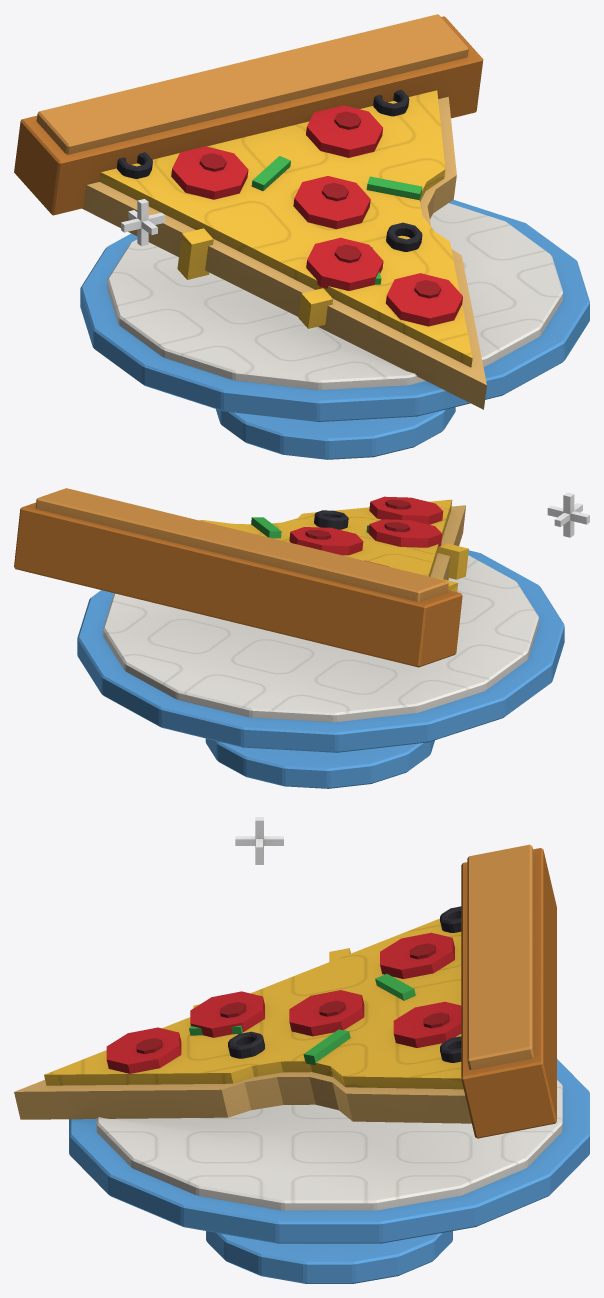
File: SubwayPizza.fbx
3 views of the same model, one above another, from view 1: azimuth 30°, elevation 25°; view 2: azimuth 150°, elevation 25°; view 3: azimuth 270°, elevation 25° (orthographic). The views are drawn at different scales.
Parts seen in each view (by area): view 1: Art_SubwayPizza; view 2: Art_SubwayPizza; view 3: Art_SubwayPizza.
Part boxes in pixels (left/top/right/bottom): Art_SubwayPizza: left=14, top=14, right=589, bottom=459; Art_SubwayPizza: left=14, top=488, right=589, bottom=788; Art_SubwayPizza: left=14, top=817, right=589, bottom=1283.
Size of the model in its own units: 3.18 by 1.89 by 3.3.
